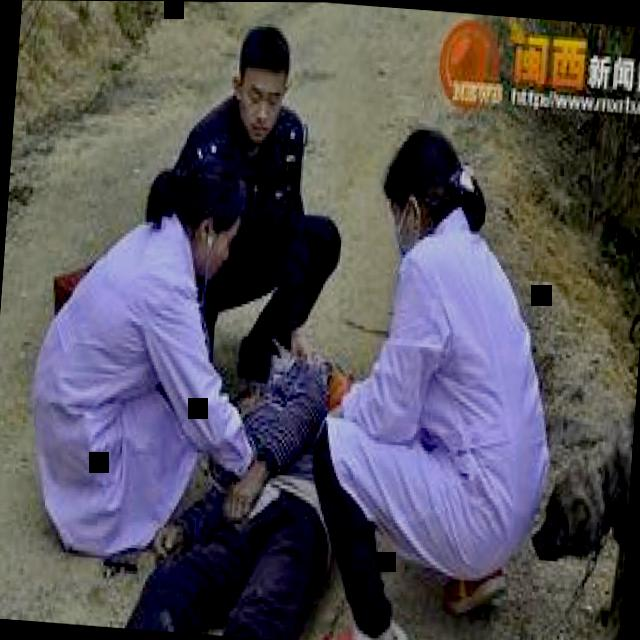Fall-Detected: (0, 296, 375, 640)
